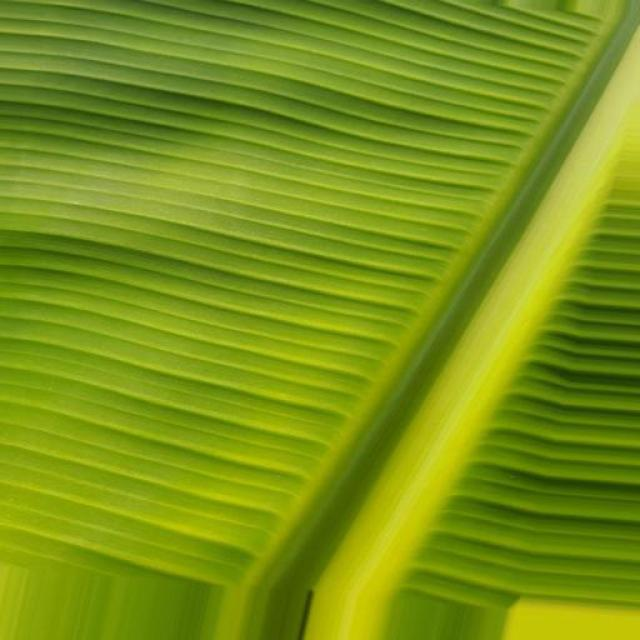Black_leaf_spot: (25, 0, 640, 557)
